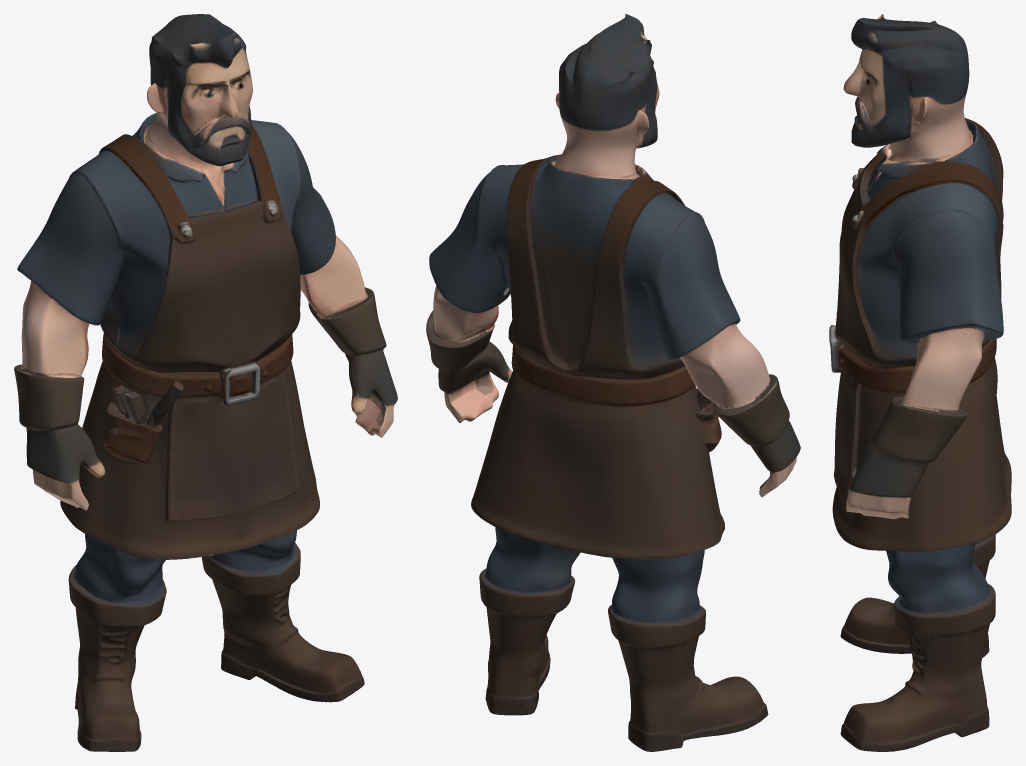
Rendered from base_basic_pbr.fbx.
3 views of the same model, side by side, from view 1: azimuth 30°, elevation 25°; view 2: azimuth 150°, elevation 25°; view 3: azimuth 270°, elevation 25° (orthographic). The views are drawn at different scales.
Visible parts, largest first — view 1: model; view 2: model; view 3: model.
Boxes of the visible parts, x1,y1,x2,y2 form: model: [14, 14, 397, 751]; model: [426, 14, 800, 751]; model: [829, 14, 1011, 751].
Bounding box in the file's own units: 102 × 190 × 46.64.
Materials: 1 (1 with a texture image).
